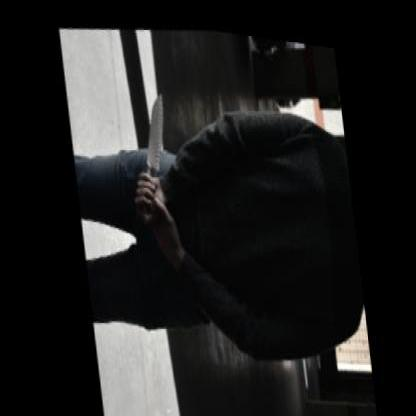knife: (127, 78, 177, 213)
